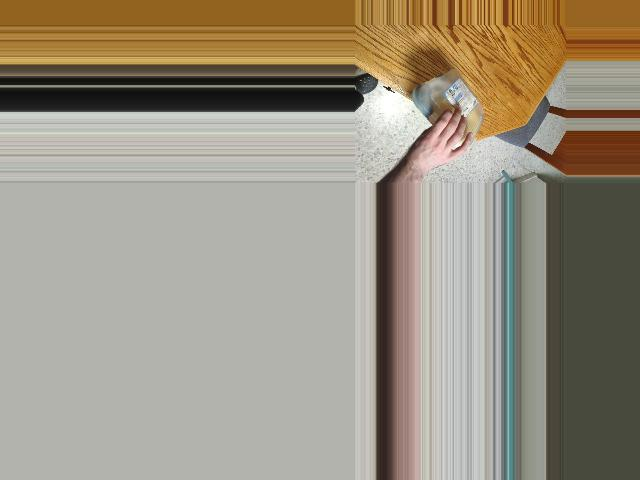cheese: (413, 66, 486, 156)
